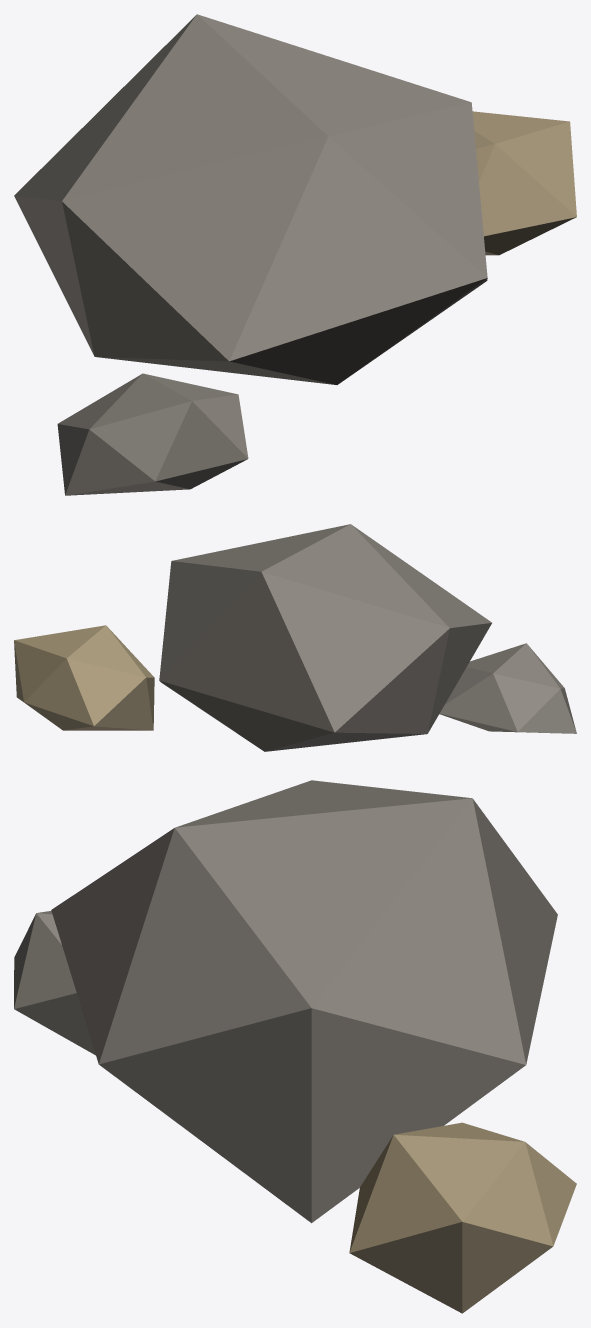
Rendered from rock.glb.
The picture shows the model from 3 angles, top to bottom: view 1: azimuth 30°, elevation 25°; view 2: azimuth 150°, elevation 25°; view 3: azimuth 270°, elevation 25°; orthographic projection. The views are drawn at different scales.
Visible parts, largest first — view 1: rock; view 2: rock; view 3: rock.
Boxes of the visible parts, left/top/right/bottom form: rock: left=14, top=14, right=576, bottom=495; rock: left=14, top=524, right=576, bottom=751; rock: left=14, top=780, right=576, bottom=1313.
Size of the model in its own units: 2.03 by 0.8341 by 1.31.
